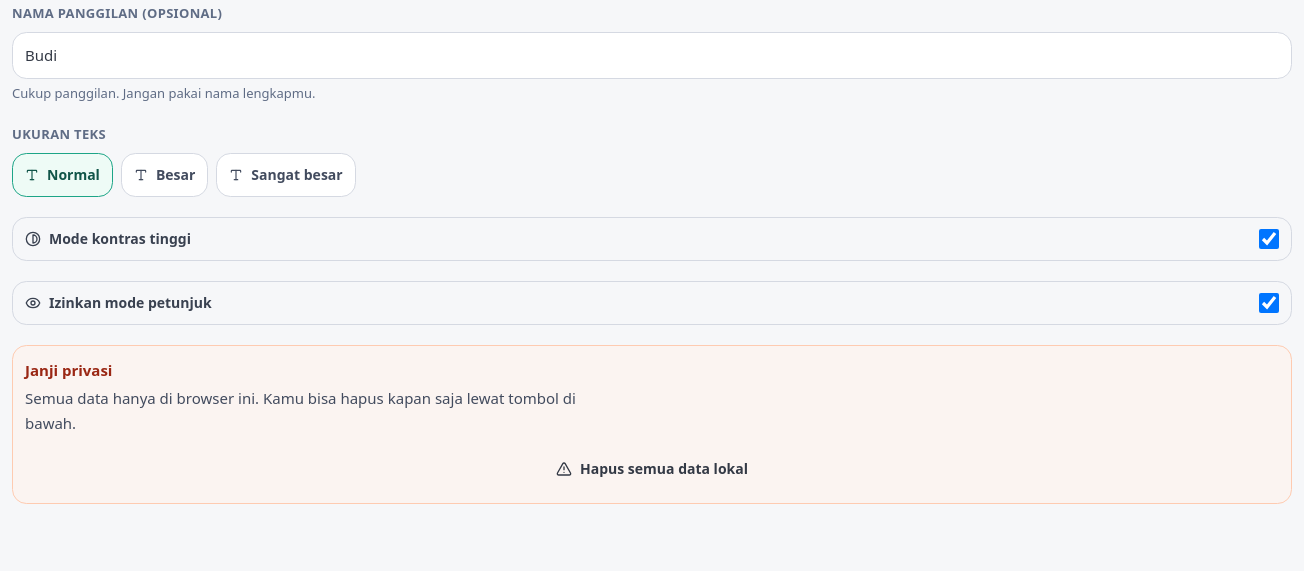
SettingsForm › reset data lokal membutuhkan konfirmasi dua langkah
Click the button "Hapus semua data lokal": {"x": 652, "y": 469} [25, 447, 1279, 491]
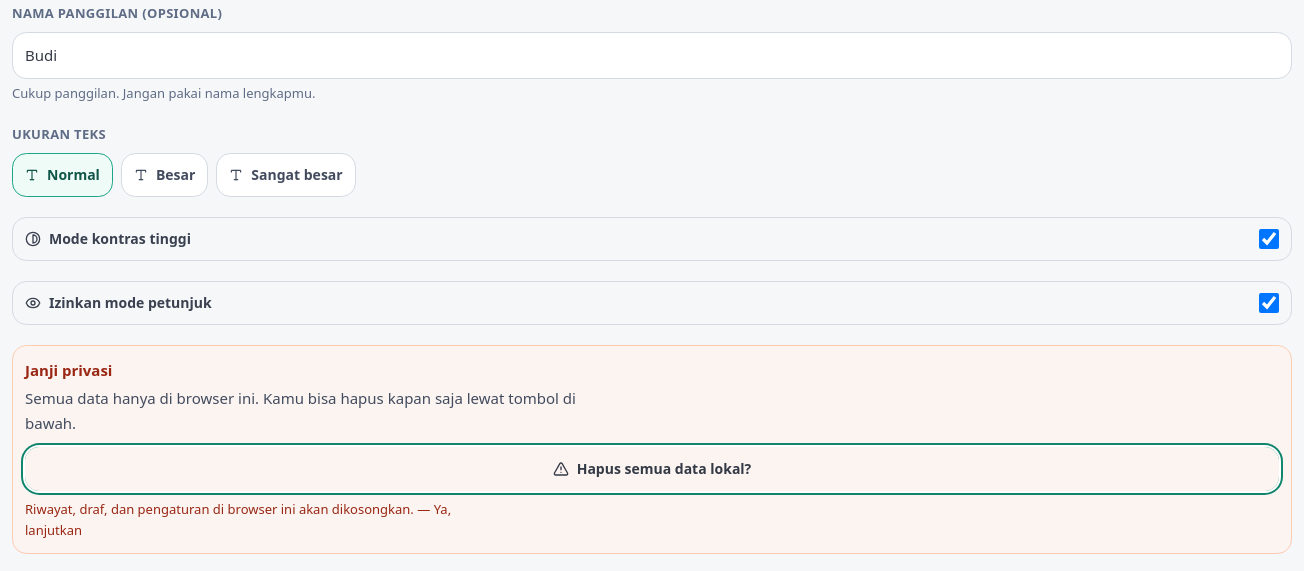
Click the button "Hapus semua data lokal?": {"x": 652, "y": 469} [25, 447, 1279, 491]
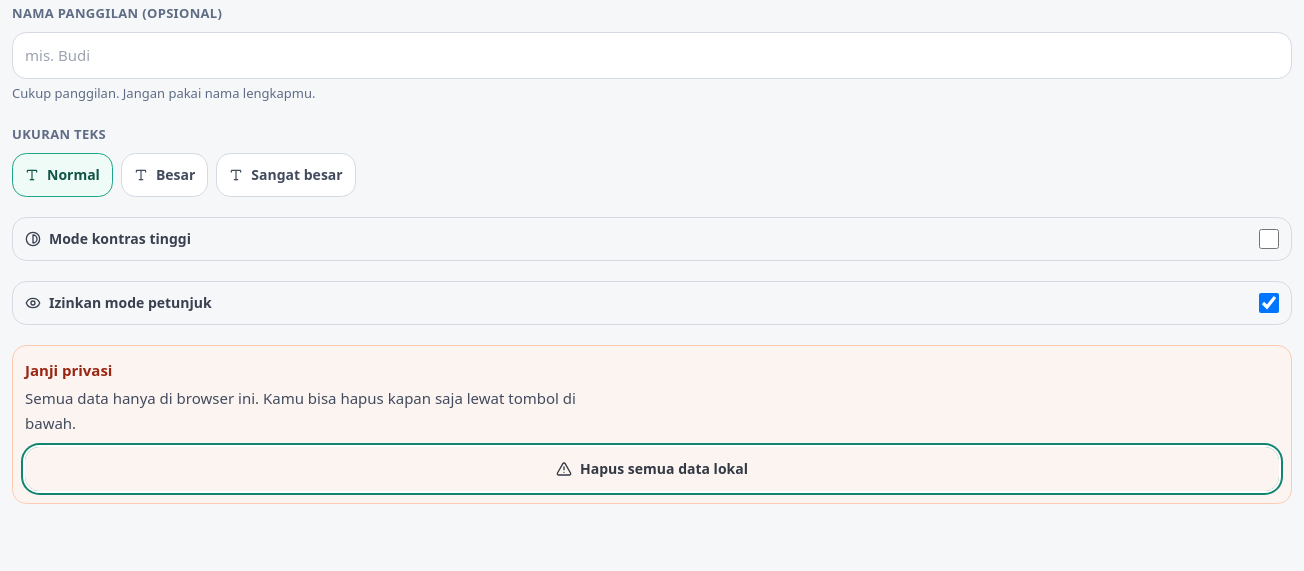
Check: the message "Riwayat, draf, dan pengaturan di browser ini akan dikosongkan. — Ya, lanjutkan" is gone
